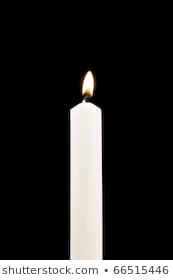Fire: (80, 69, 95, 98)
